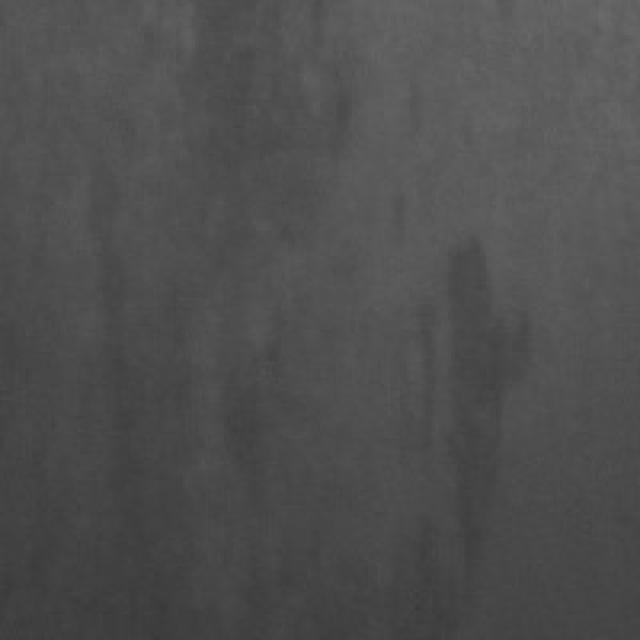inclusion: (60, 128, 170, 544), (410, 227, 528, 579), (218, 330, 307, 518), (282, 28, 346, 185)
